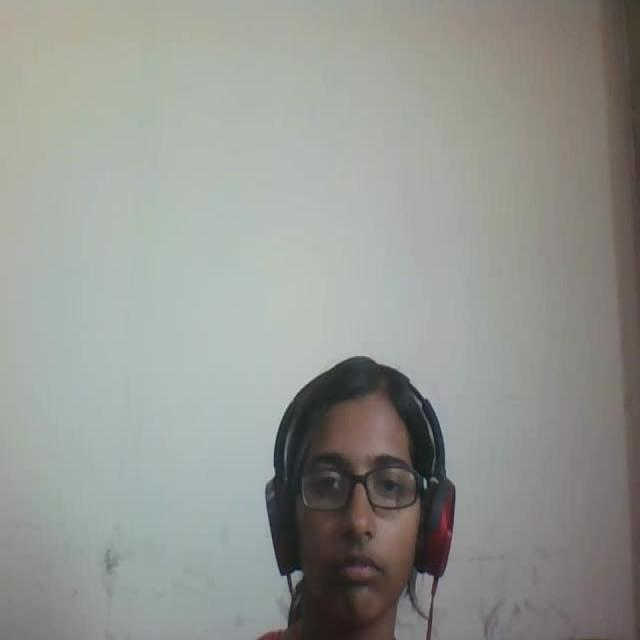Engaged: (219, 332, 462, 640)
